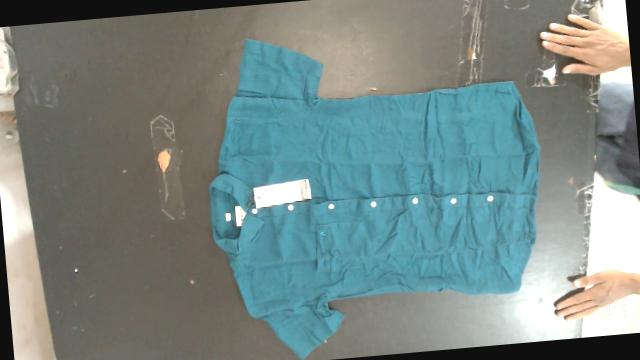new-garment: (210, 39, 540, 358)
